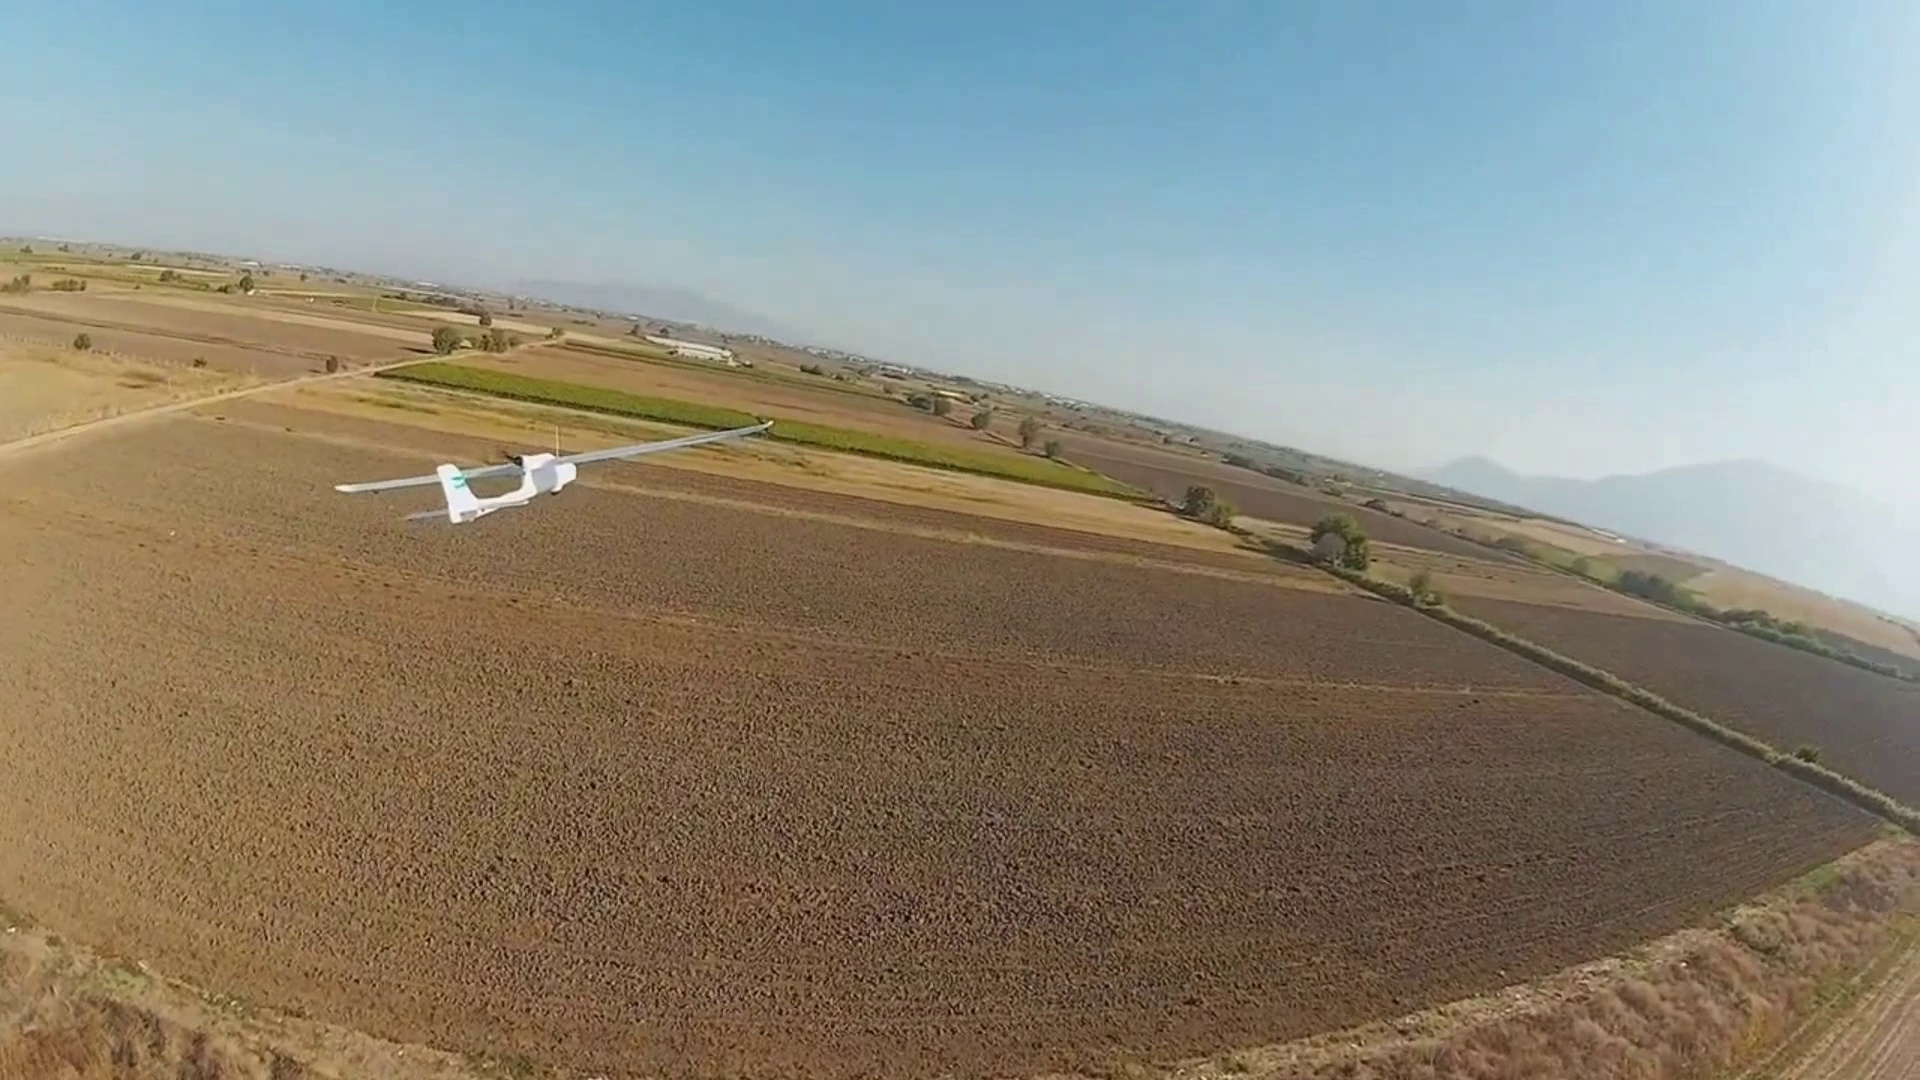airplane: (334, 417, 771, 526), (334, 452, 579, 526)
